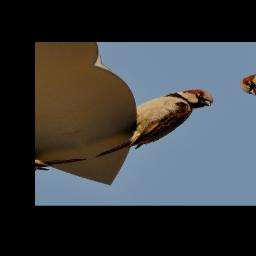Swallow: (67, 85, 233, 159)
